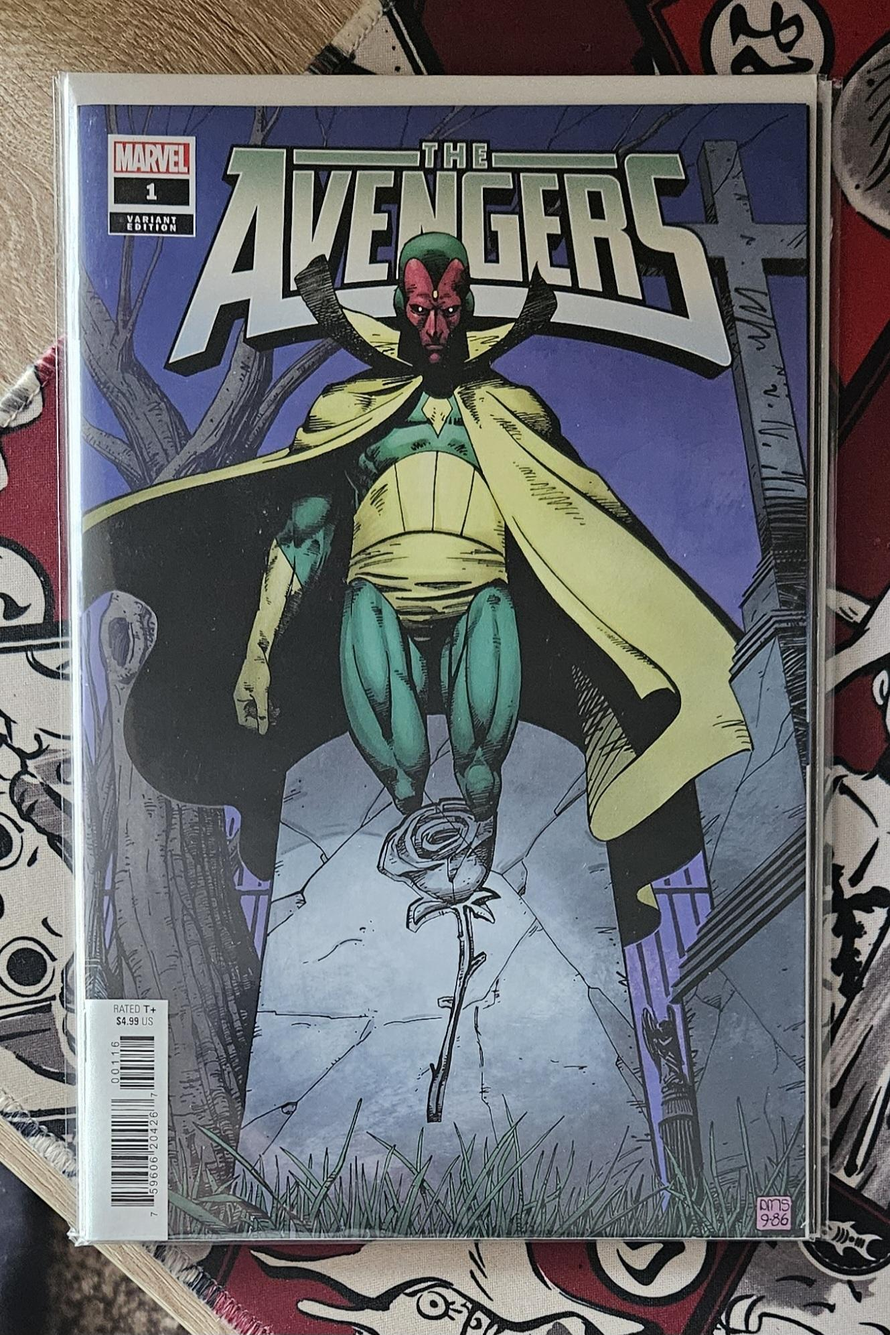comic: (64, 76, 825, 1238)
